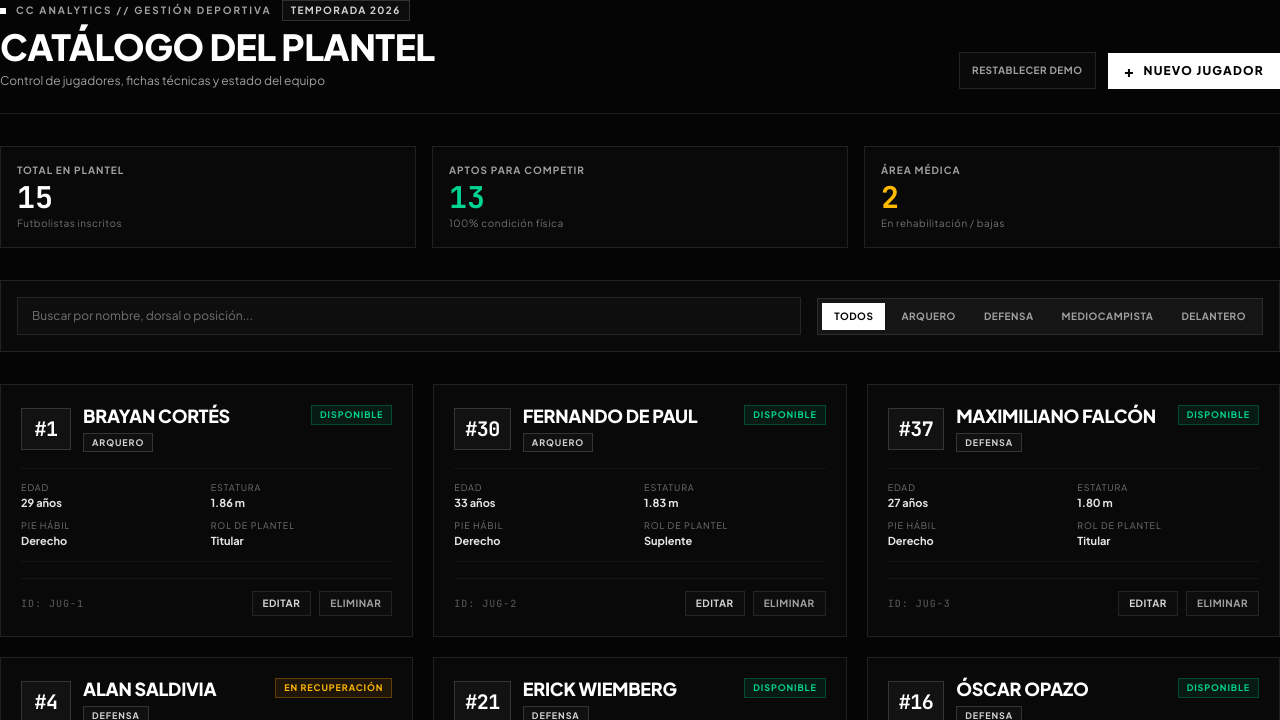
Test: Módulo de Plantel de Jugadores (Pantalla 3 - Integración CRUD) › permite dar de baja a un jugador con confirmacion inline segura
// buscar los botones Eliminar de los futbolistas
Click the button "Eliminar" below "Brayan Cortés" at (356, 604), box [319,591,392,616]
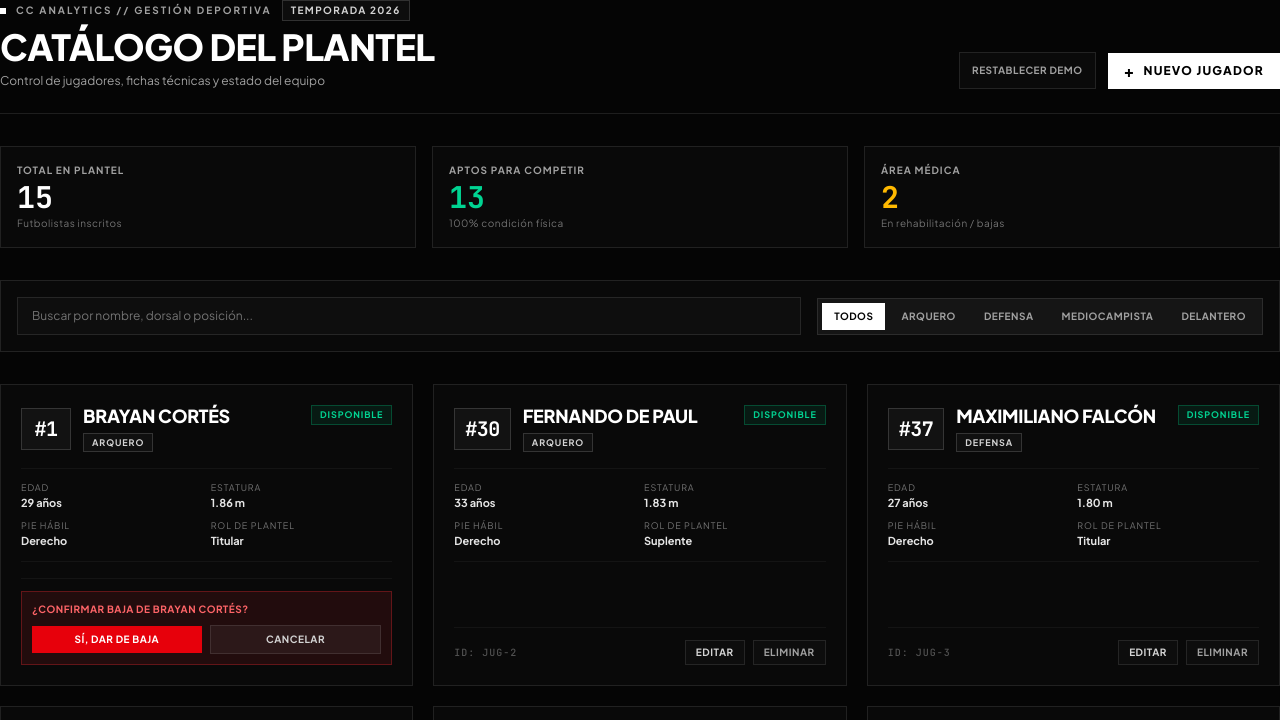
expect the text "¿Confirmar baja de Brayan Cortés?" is shown: met, box [32,603,248,615]
Click the button "Sí, Dar de Baja" at (117, 640), box [32,626,202,653]
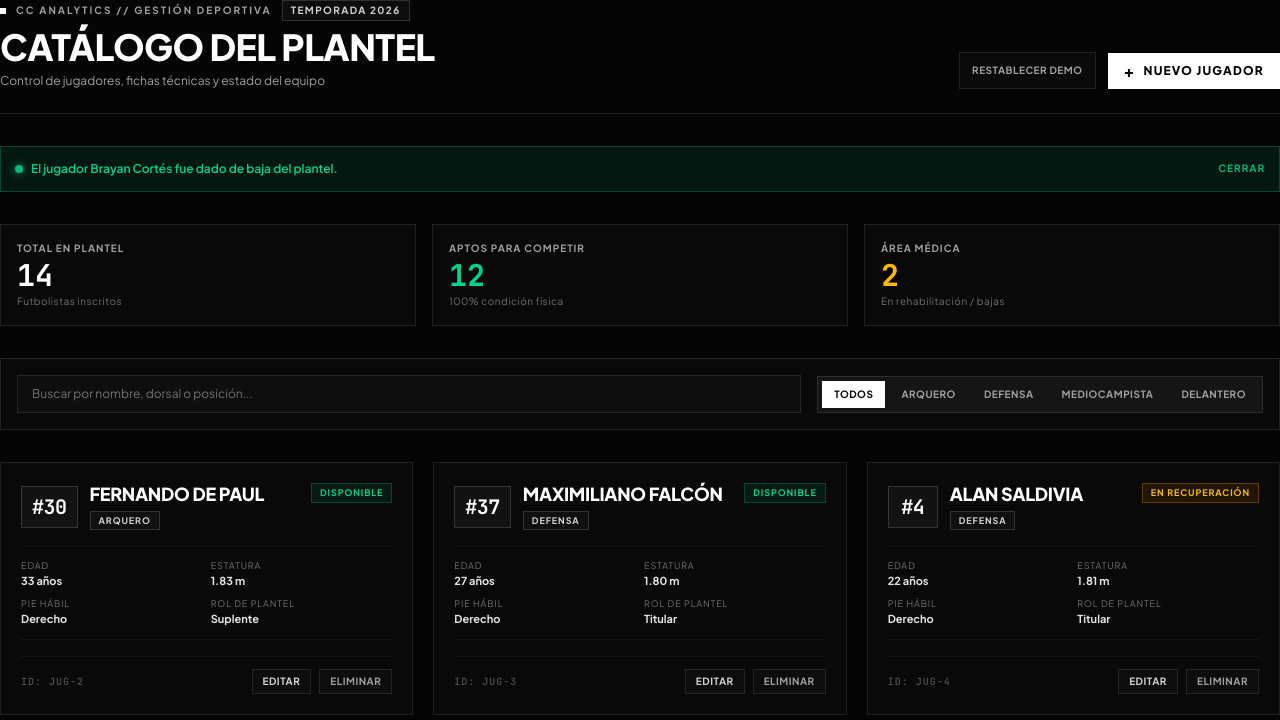
expect the text "El jugador Brayan Cortés fue dado de baja del plantel." is shown: met, box [31,161,338,177]
